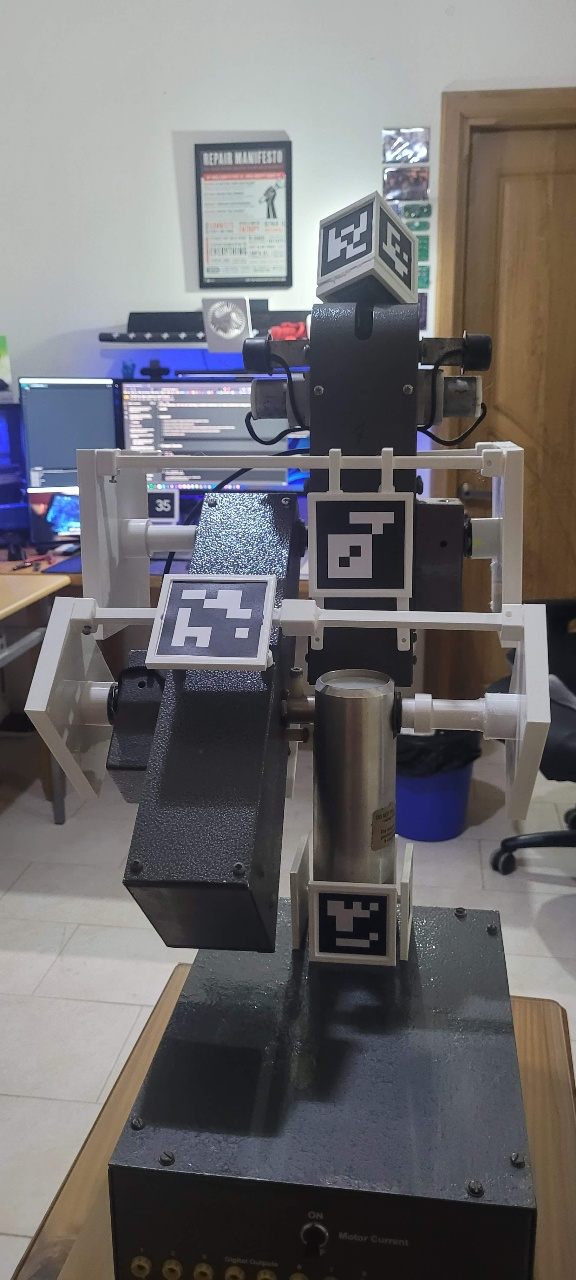Robot: (22, 192, 552, 971)
